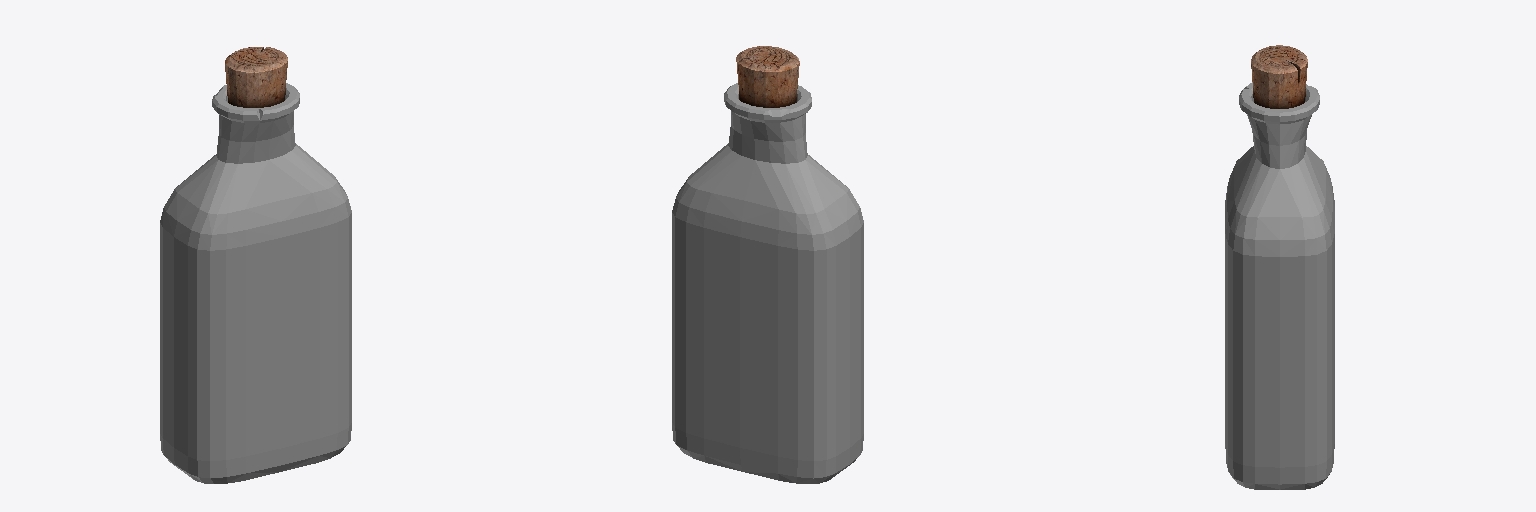
3 renders of one model, left to right at view 1: azimuth 30°, elevation 25°; view 2: azimuth 150°, elevation 25°; view 3: azimuth 270°, elevation 25°, orthographic.
Parts seen in each view (by area): view 1: Bottle_LP_meshId1_name, Cork_LP_meshId0_name; view 2: Bottle_LP_meshId1_name, Cork_LP_meshId0_name; view 3: Bottle_LP_meshId1_name, Cork_LP_meshId0_name.
Part boxes in pixels (left/top/right/bottom): Bottle_LP_meshId1_name: left=160, top=83, right=351, bottom=483; Cork_LP_meshId0_name: left=225, top=47, right=287, bottom=107; Bottle_LP_meshId1_name: left=672, top=83, right=863, bottom=483; Cork_LP_meshId0_name: left=736, top=46, right=799, bottom=107; Bottle_LP_meshId1_name: left=1225, top=82, right=1334, bottom=489; Cork_LP_meshId0_name: left=1251, top=45, right=1307, bottom=108.
Bounding box in the file's own units: 12.73 × 29.43 × 7.43.
Materials: 3 (1 with a texture image).